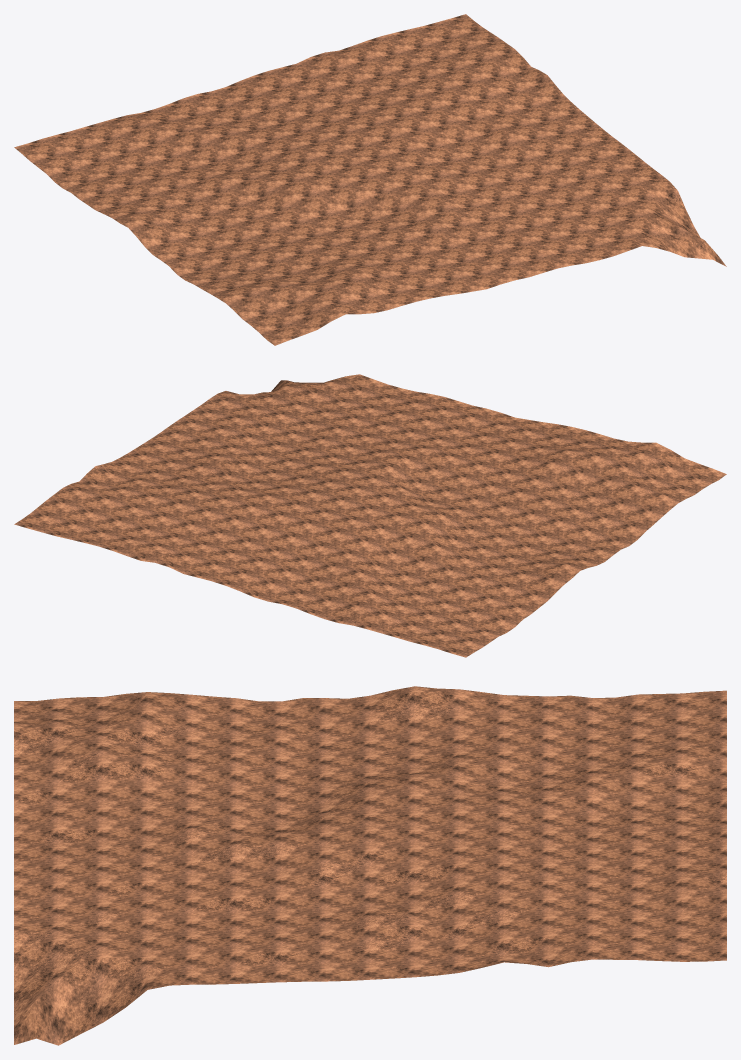
The model's file is terrain_05_12.dae.
The picture shows the model from 3 angles, top to bottom: view 1: azimuth 30°, elevation 25°; view 2: azimuth 150°, elevation 25°; view 3: azimuth 270°, elevation 25°; orthographic projection. The views are drawn at different scales.
Parts seen in each view (by area): view 1: terrain_05_12-node; view 2: terrain_05_12-node; view 3: terrain_05_12-node.
Part boxes in pixels (x1,y1,x2,y2): terrain_05_12-node: (14, 14, 726, 345); terrain_05_12-node: (14, 374, 726, 657); terrain_05_12-node: (14, 686, 726, 1045).
Bounding box in the file's own units: 128 × 128 × 17.08.
1 material, 1 textured.
